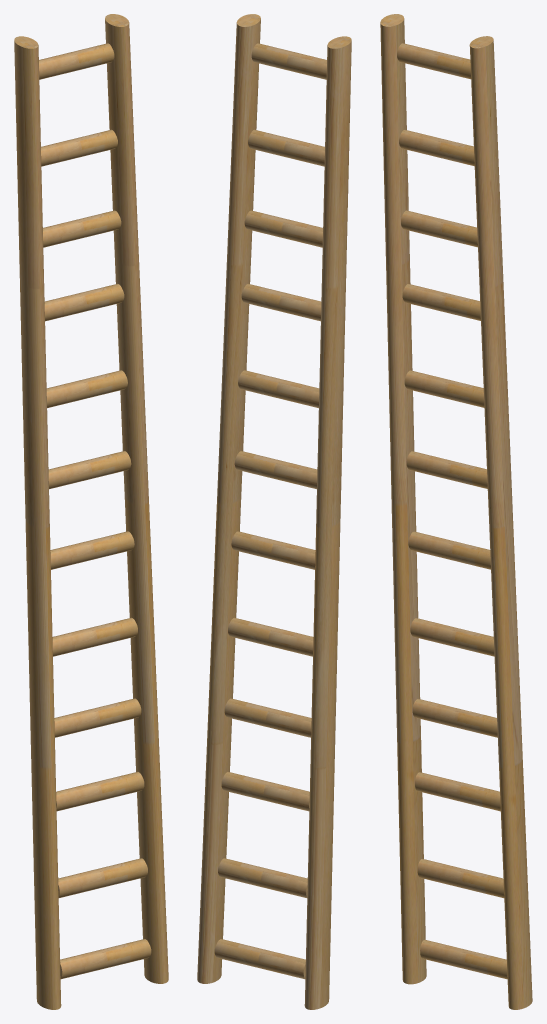
File: ladder.FBX
3 renders of one model, left to right at view 1: azimuth 30°, elevation 25°; view 2: azimuth 150°, elevation 25°; view 3: azimuth 330°, elevation 25°, orthographic.
Visible parts, largest first — view 1: ladder; view 2: ladder; view 3: ladder.
Boxes of the visible parts, left/top/right/bottom form: ladder: left=14, top=14, right=168, bottom=1009; ladder: left=197, top=14, right=351, bottom=1009; ladder: left=380, top=14, right=532, bottom=1009.
Bounding box in the file's own units: 63.15 × 394 × 11.91.
Materials: 1 (1 with a texture image).
